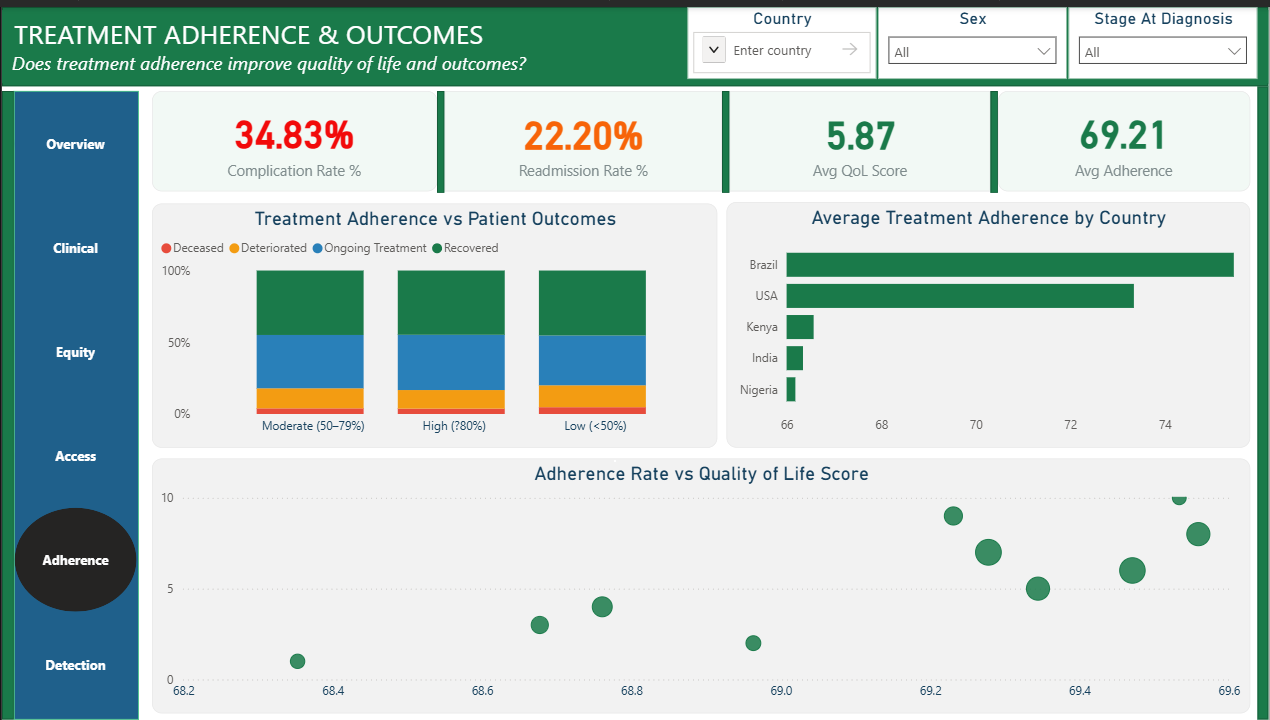

Layout of this report page (visuals, bound fields, positions):
{"tool":"powerbi","page":{"name":"Adherence","canvas":[1280,720],"ordinal":4},"visuals":[{"type":"shape","box":[0,0,1279.4,80],"z":0},{"type":"textbox","box":[0.6,3,1279.4,74],"z":1000},{"type":"textSlicer","title":"Country","fields":{"Values":["ckd_clean.country"]},"box":[691.9,0,190.8,72.7],"z":2000},{"type":"slicer","title":"Sex","fields":{"Values":["ckd_clean.sex"]},"box":[884.9,0,190.8,72.7],"z":3000},{"type":"slicer","title":"Stage At Diagnosis","fields":{"Values":["ckd_clean.disease_stage_at_diagnosis"]},"box":[1076.9,0,190.8,72.7],"z":4000},{"type":"shape","box":[1267.4,81,12,639],"z":5000},{"type":"shape","box":[0,84.8,12,634.5],"z":6000},{"type":"pageNavigator","box":[12.1,84.8,125.7,634.5],"z":7000},{"type":"hundredPercentStackedColumnChart","title":"Treatment Adherence vs Patient Outcomes","fields":{"Category":["ckd_clean.adherence_category"],"Y":["Measures (2).Total Patients"],"Series":["ckd_clean.Primary Outcome"]},"box":[151.4,198.4,570.9,246.8],"z":9000},{"type":"card","fields":{"Values":["Measures (2).Complication Rate %"]},"box":[151.4,85,287.7,101.5],"z":10000},{"type":"card","fields":{"Values":["Measures (2).Readmission Rate %"]},"box":[446.7,85,280.1,101.5],"z":11000},{"type":"card","fields":{"Values":["Measures (2).Avg QoL Score"]},"box":[734.4,85,263.5,101.5],"z":12000},{"type":"shape","box":[998,85,7.6,103],"z":13000},{"type":"card","fields":{"Values":["Measures (2).Avg Adherence %"]},"box":[1005.4,85,254.4,101.5],"z":14000},{"type":"shape","box":[726.8,85,7.6,103],"z":15000},{"type":"shape","box":[439,85,7.6,103],"z":16000},{"type":"scatterChart","title":"Adherence Rate vs Quality of Life Score","fields":{"Y":["ckd_clean.quality_of_life_score"],"X":["Avg(ckd_clean.treatment_adherence_pct)"],"Size":["Measures (2).Total Patients"]},"box":[151.4,455.8,1108.4,257.4],"z":17000},{"type":"barChart","title":"Average Treatment Adherence by Country","fields":{"Y":["Measures (2).Avg Adherence"],"Category":["ckd_clean.country"]},"box":[731.4,197,528.5,248],"z":18000}]}

Visuals, with their boxes in screenshot pixels (x1, y1, x2, y2), scaled from the page's 1280x720 canvas onto the 1270x720 screenshot:
shape: Rect(0, 0, 1269, 80)
textbox: Rect(1, 3, 1269, 77)
"Country" textSlicer: Rect(686, 0, 876, 73)
"Sex" slicer: Rect(878, 0, 1067, 73)
"Stage At Diagnosis" slicer: Rect(1068, 0, 1258, 73)
shape: Rect(1257, 81, 1269, 719)
shape: Rect(0, 85, 12, 719)
pageNavigator: Rect(12, 85, 137, 719)
"Treatment Adherence vs Patient Outcomes" hundredPercentStackedColumnChart: Rect(150, 198, 717, 445)
card - Measures (2).Complication Rate %: Rect(150, 85, 436, 186)
card - Measures (2).Readmission Rate %: Rect(443, 85, 721, 186)
card - Measures (2).Avg QoL Score: Rect(729, 85, 990, 186)
shape: Rect(990, 85, 998, 188)
card - Measures (2).Avg Adherence %: Rect(998, 85, 1250, 186)
shape: Rect(721, 85, 729, 188)
shape: Rect(436, 85, 443, 188)
"Adherence Rate vs Quality of Life Score" scatterChart: Rect(150, 456, 1250, 713)
"Average Treatment Adherence by Country" barChart: Rect(726, 197, 1250, 445)
